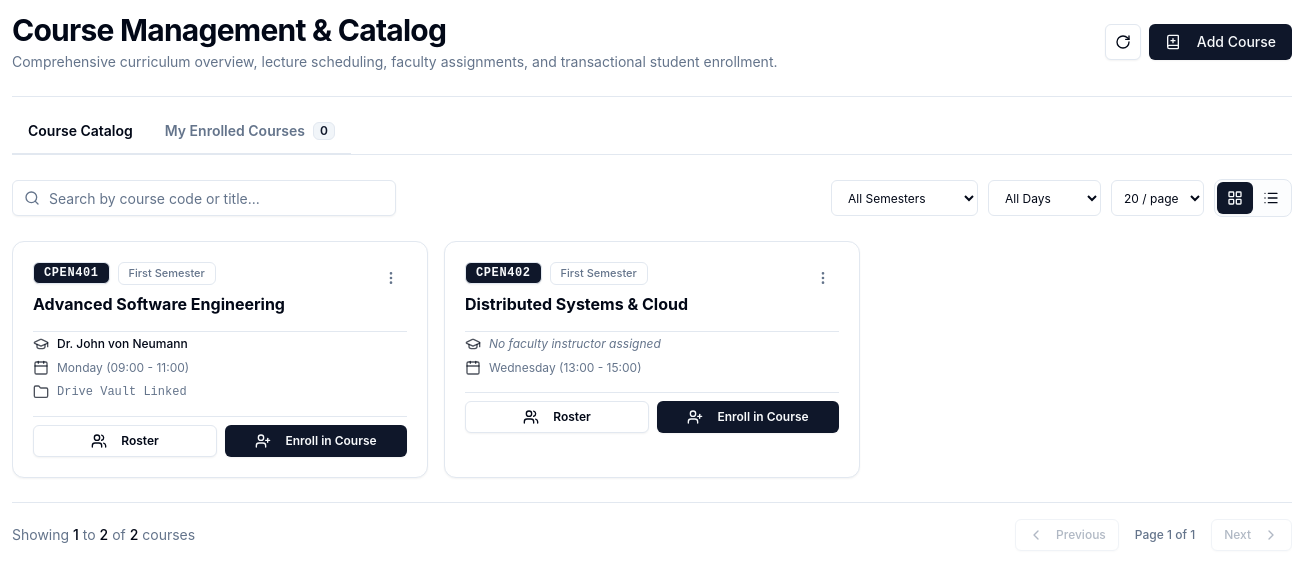
Test case: CourseCatalogPage › toggles to table view mode and displays course data rows
The width and height of the screenshot is (1304, 568).
Check: the text "CPEN401" is shown, box [33, 262, 110, 284]
# Toggle Table View
Click the button titled "Table View" at point(1271, 198), box [1253, 182, 1289, 214]
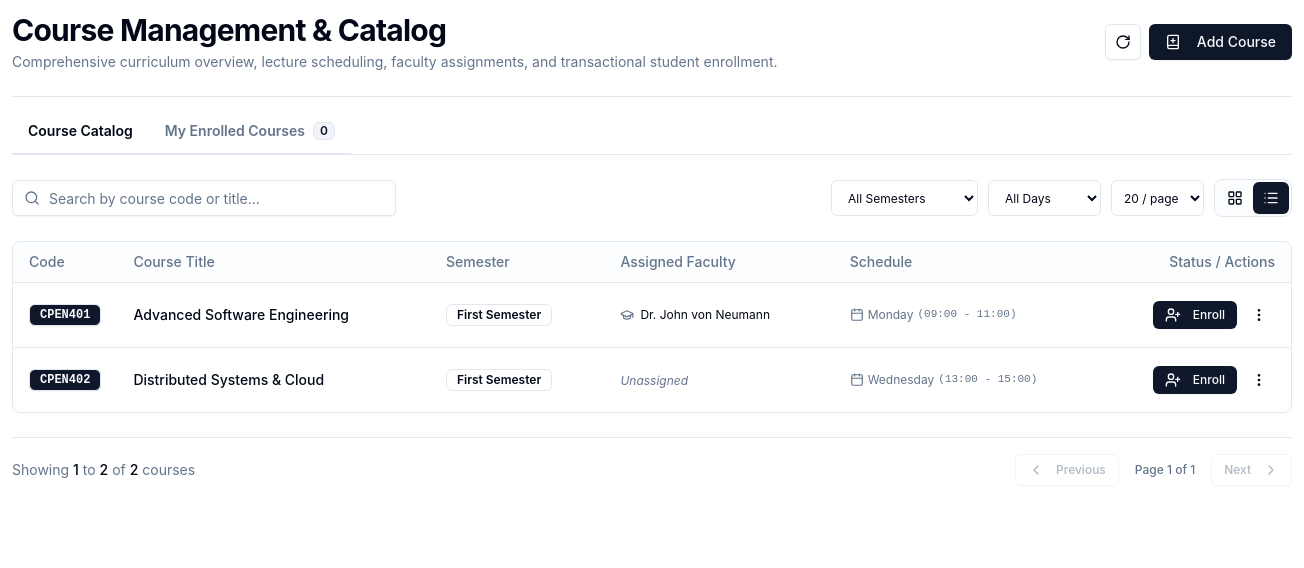
Check: the column heading "Code" is shown, box [13, 242, 117, 282]
Check: the column heading "Course Title" is shown, box [117, 242, 430, 282]
Check: the column heading "Semester" is shown, box [430, 242, 604, 282]
